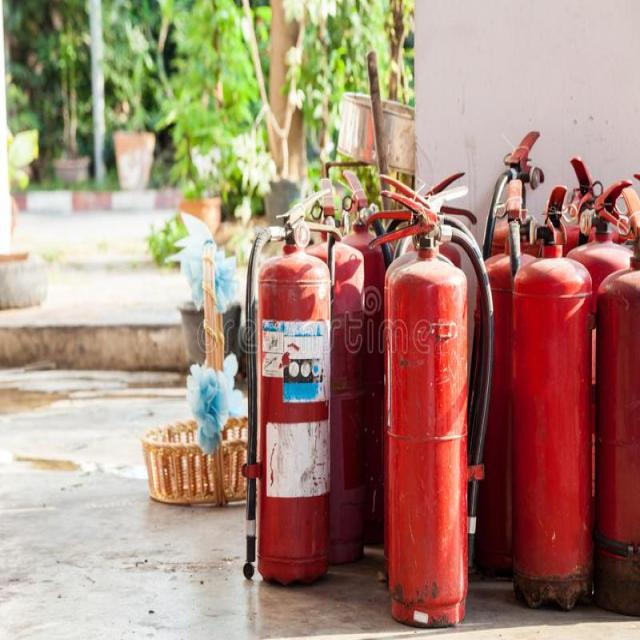fire_extinguisher: (370, 179, 500, 630), (502, 182, 602, 610), (240, 180, 342, 596), (277, 159, 374, 572), (590, 179, 639, 621)
